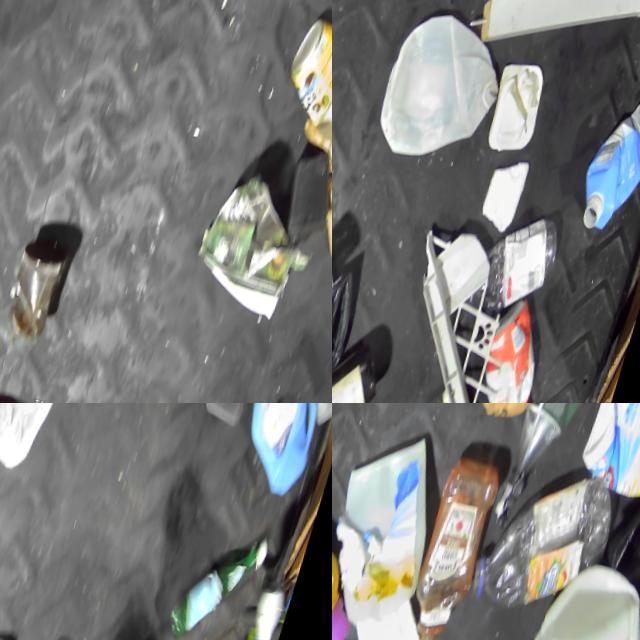can: (279, 21, 332, 127)
milk_jug: (369, 2, 517, 174), (519, 557, 640, 640)
non_white_jug: (186, 153, 329, 335), (230, 403, 332, 506), (332, 500, 387, 640)
plastic_bottle: (465, 458, 627, 633), (165, 515, 282, 640)
